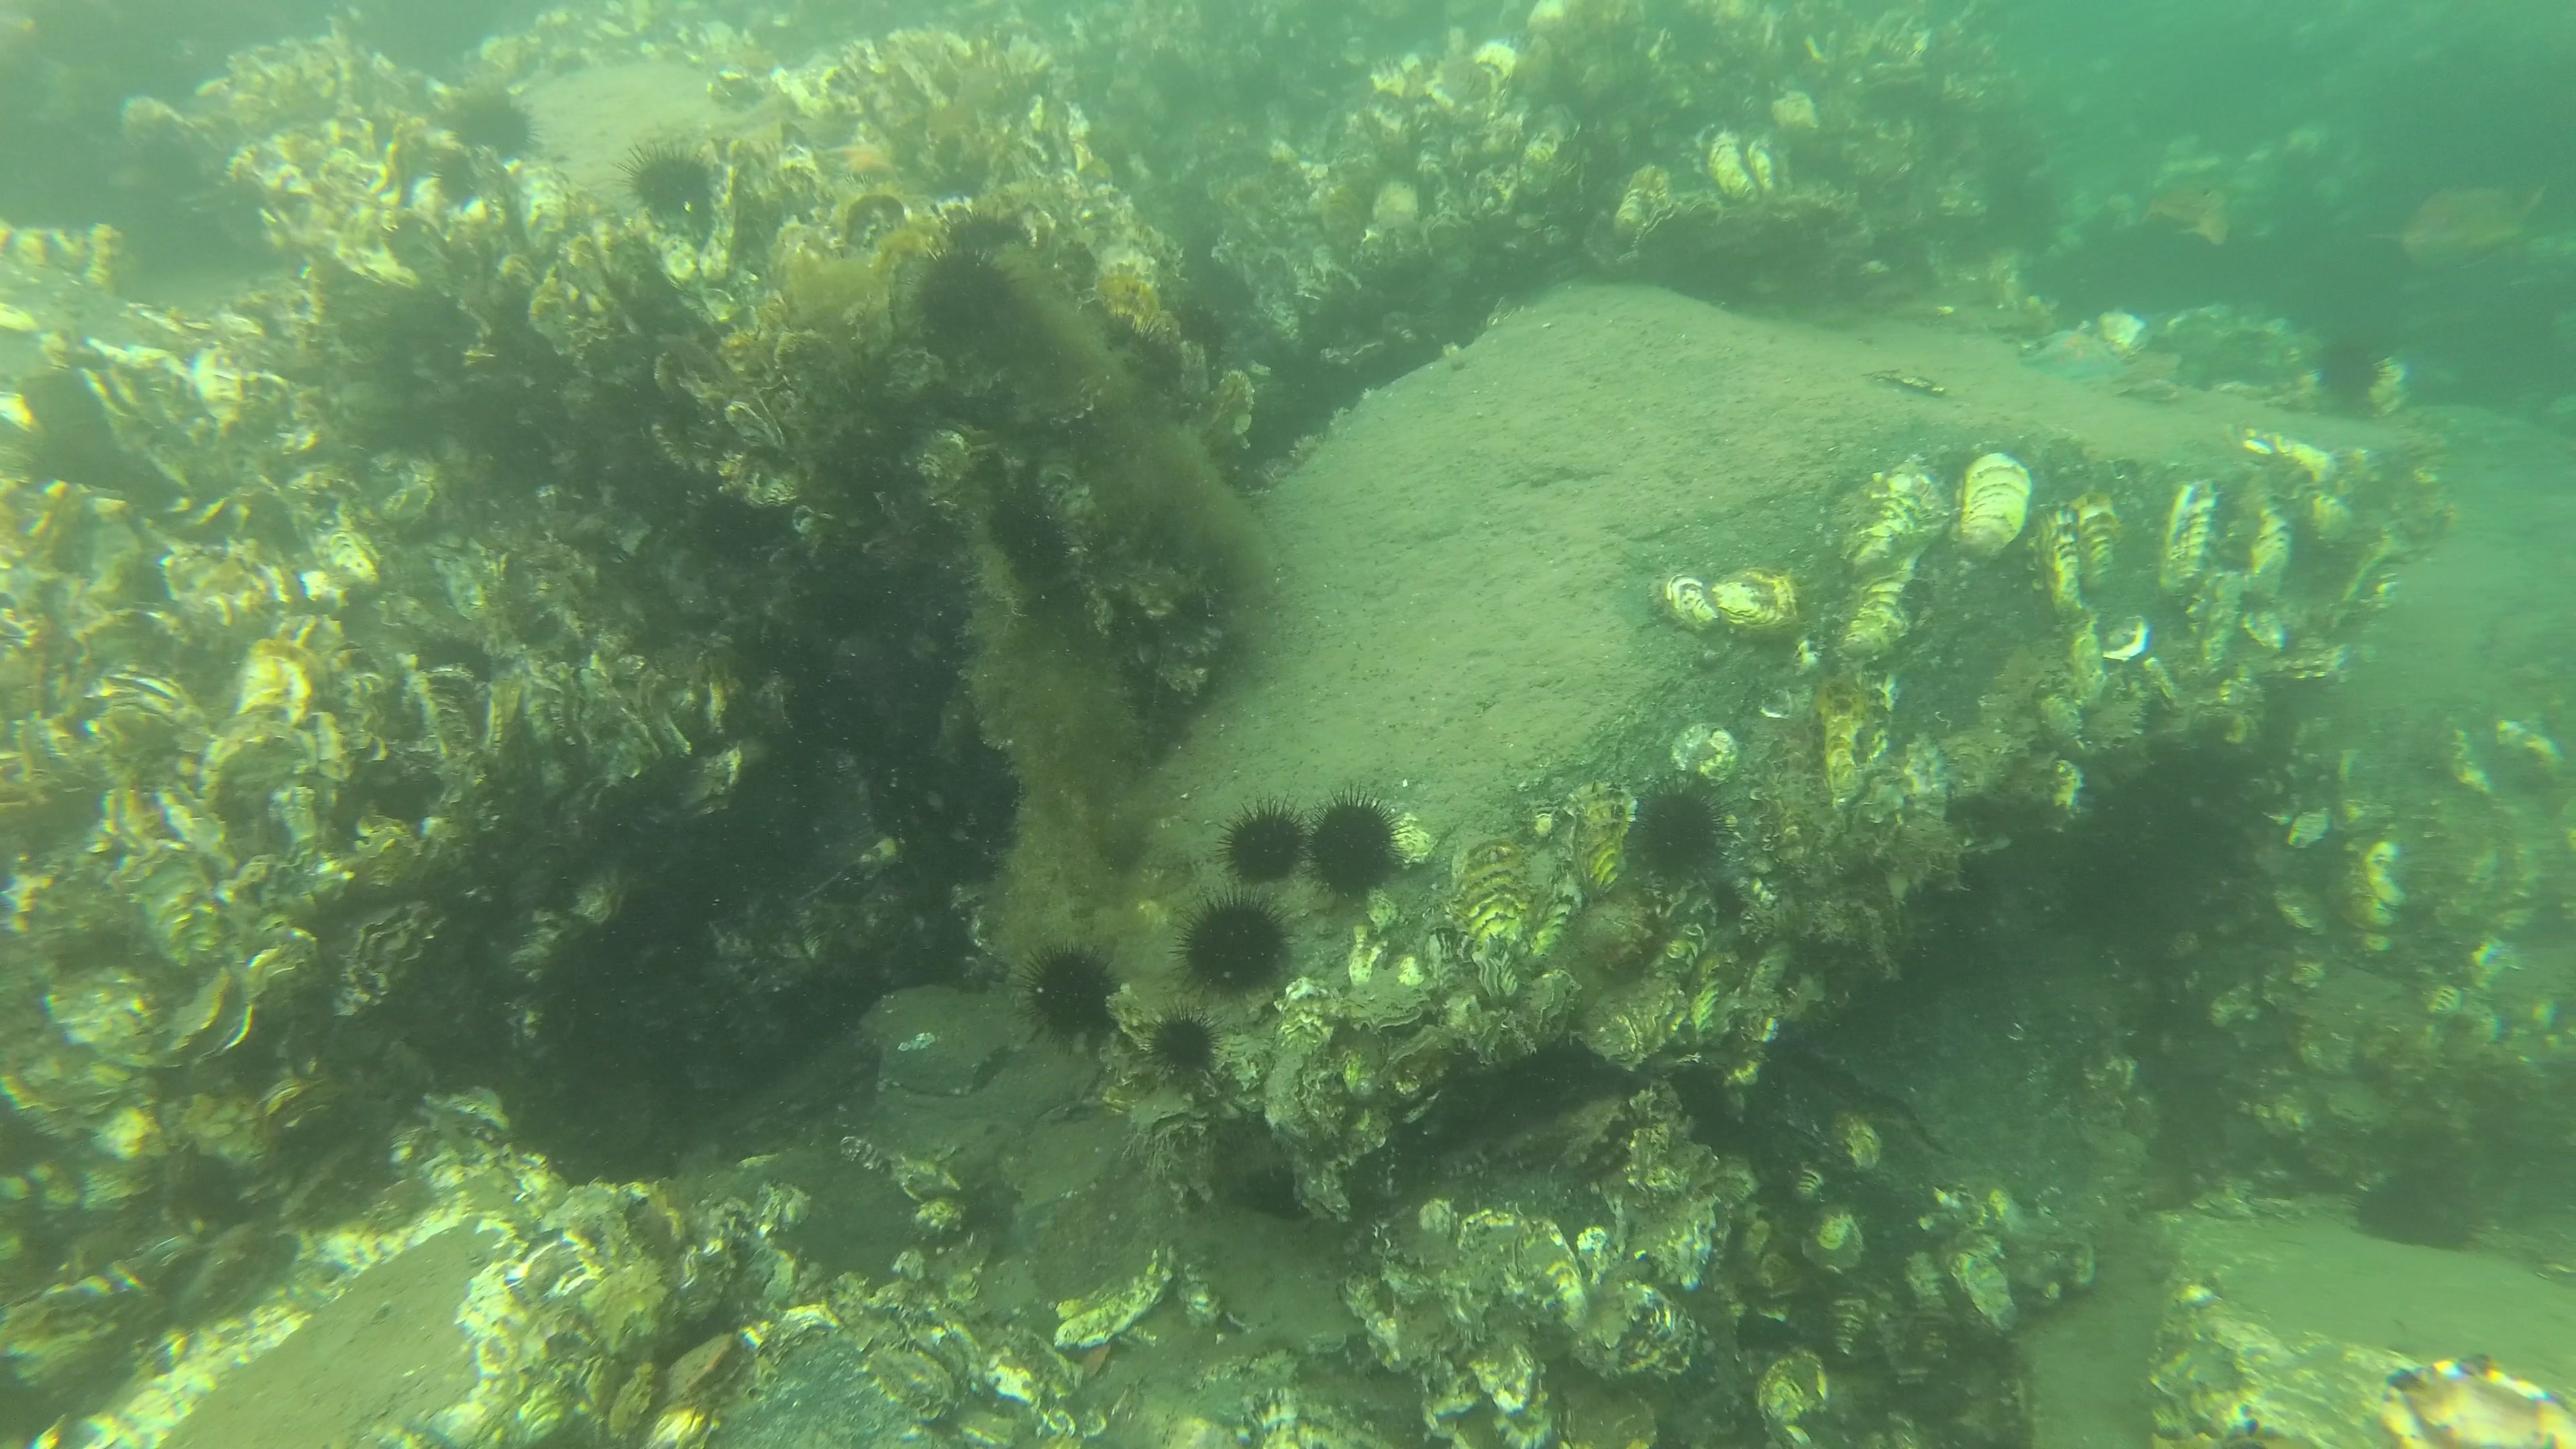echinus: (899, 234, 1024, 352), (1175, 888, 1302, 1000), (1304, 780, 1414, 909), (1012, 938, 1134, 1049), (2351, 1161, 2482, 1253), (1621, 777, 1730, 886), (617, 131, 732, 228), (1207, 800, 1313, 892), (439, 83, 543, 161), (1148, 996, 1226, 1088)
starfish: (2024, 317, 2134, 393)
